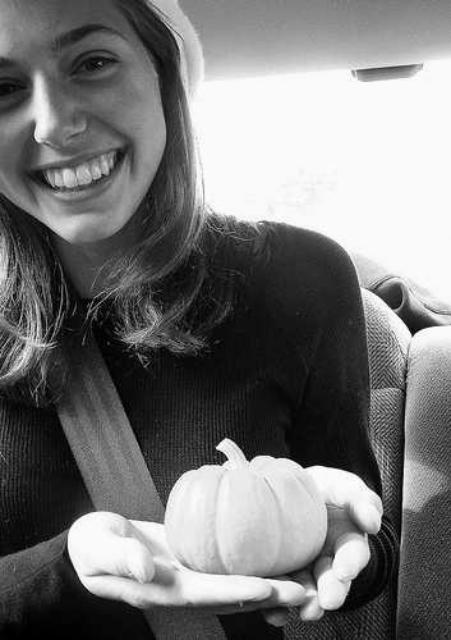SafeDriving: (64, 37, 127, 86), (0, 59, 38, 110)
Seatbelt: (0, 296, 236, 640)
